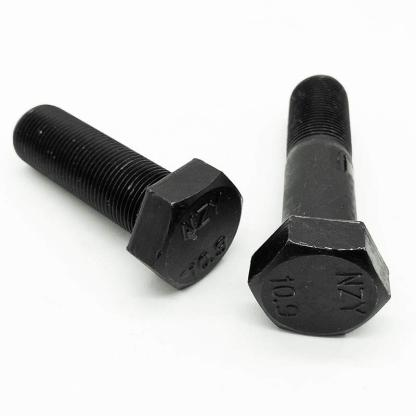FOD: (10, 102, 244, 291), (248, 71, 392, 341)
